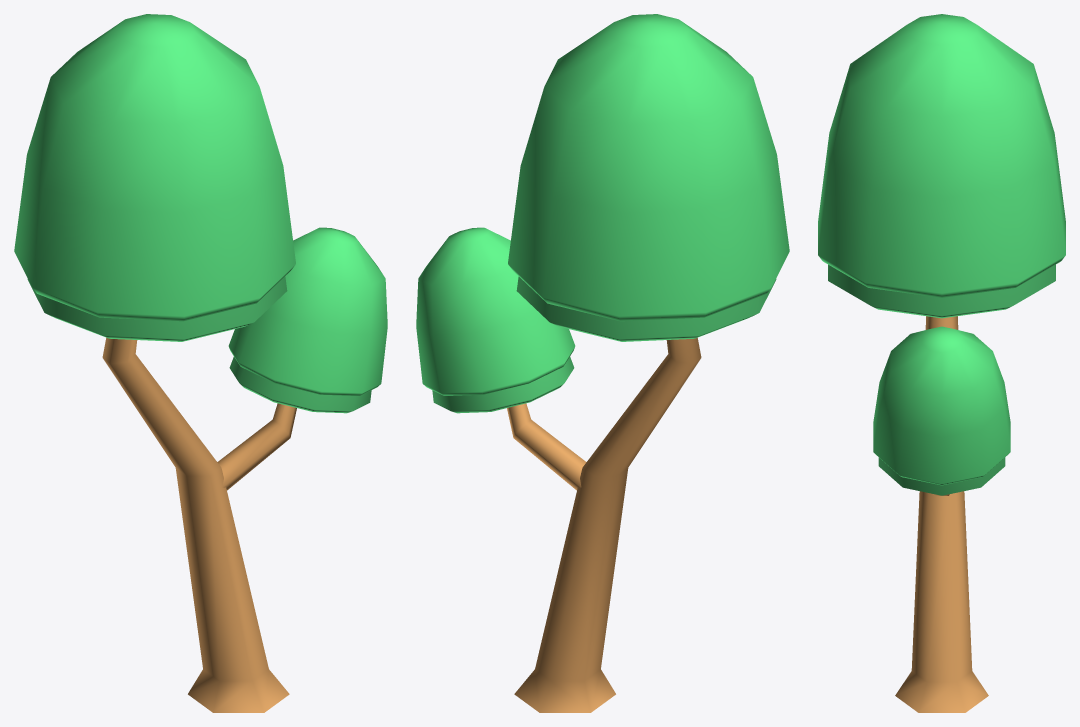
File: tree02.fbx
3 views of the same model, side by side, from view 1: azimuth 30°, elevation 25°; view 2: azimuth 150°, elevation 25°; view 3: azimuth 270°, elevation 25° (orthographic). The views are drawn at different scales.
Visible parts, largest first — view 1: tree02; view 2: tree02; view 3: tree02.
Part boxes in pixels (left/top/right/bottom): tree02: left=14, top=14, right=387, bottom=712; tree02: left=416, top=14, right=789, bottom=712; tree02: left=818, top=14, right=1065, bottom=712.
Size of the model in its own units: 2.85 by 5.43 by 1.92.
1 material, 1 textured.
